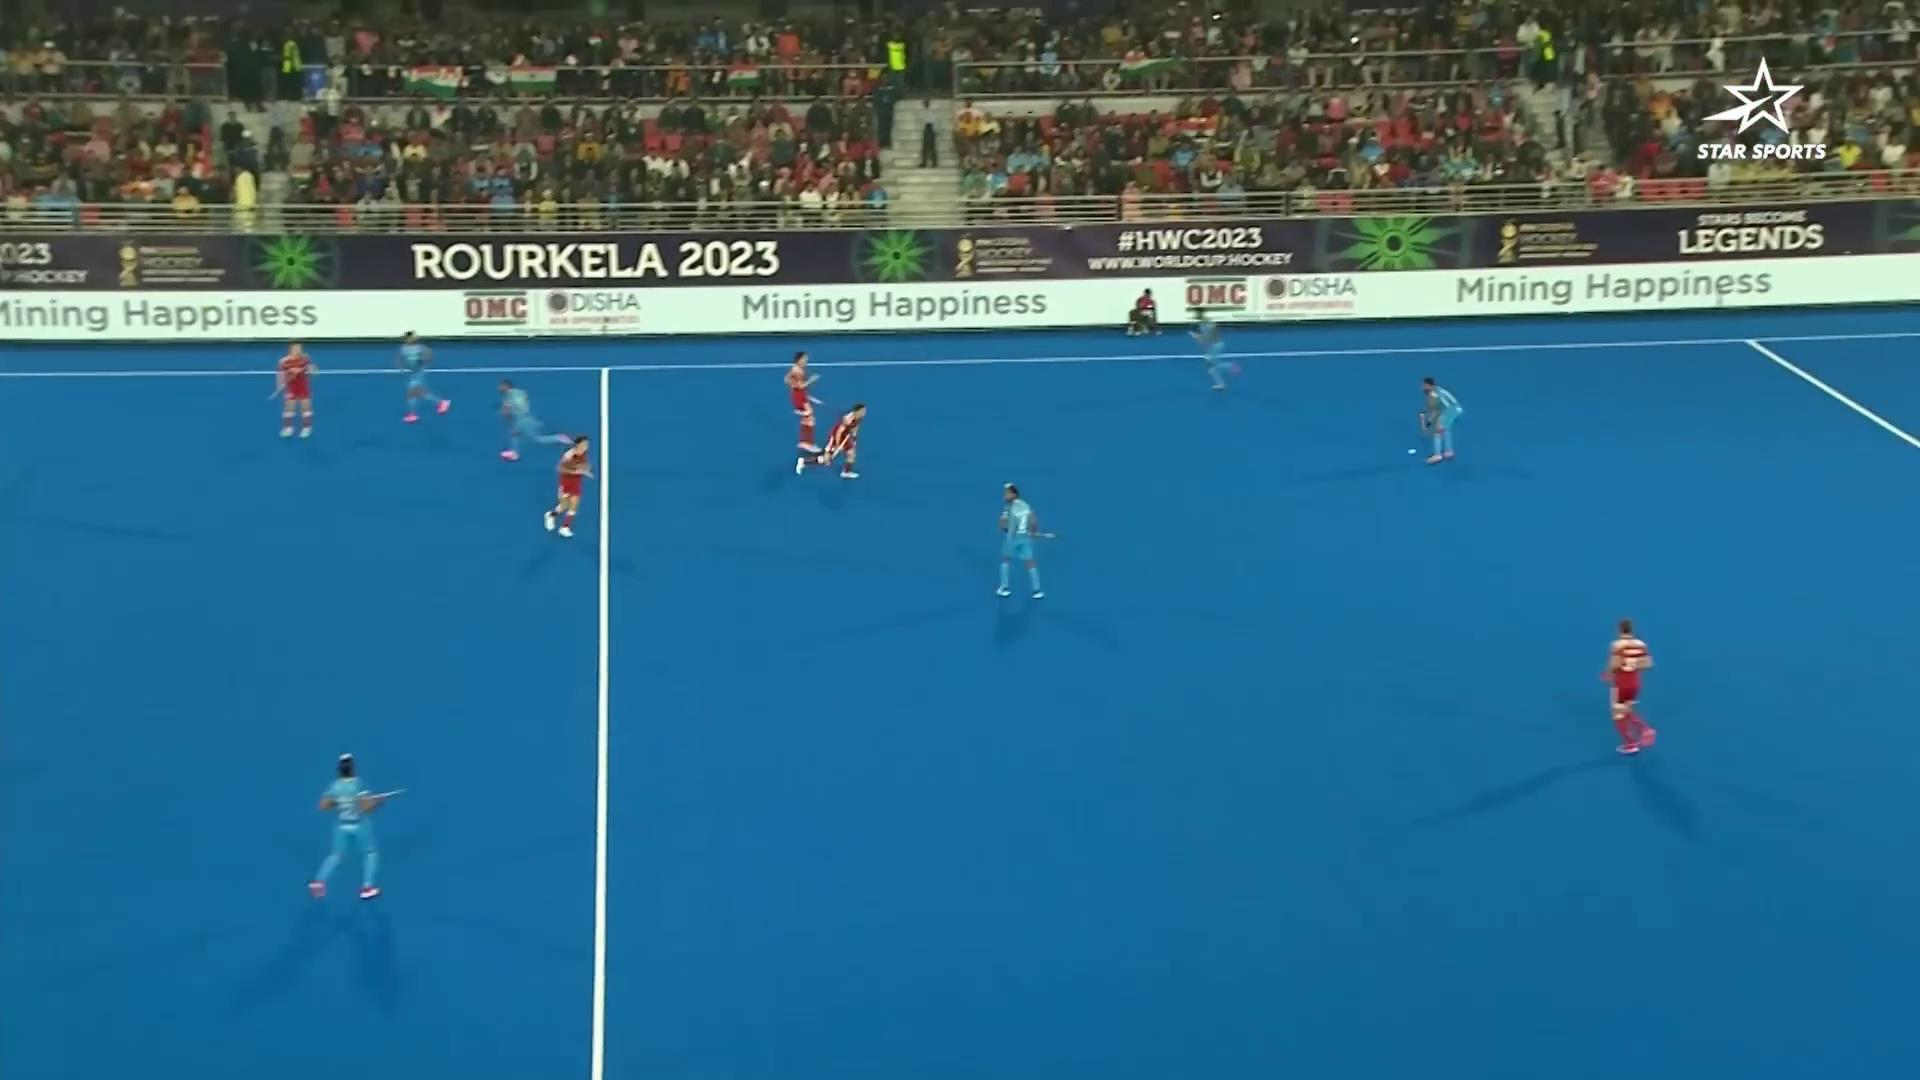ball: (1400, 443, 1424, 464)
